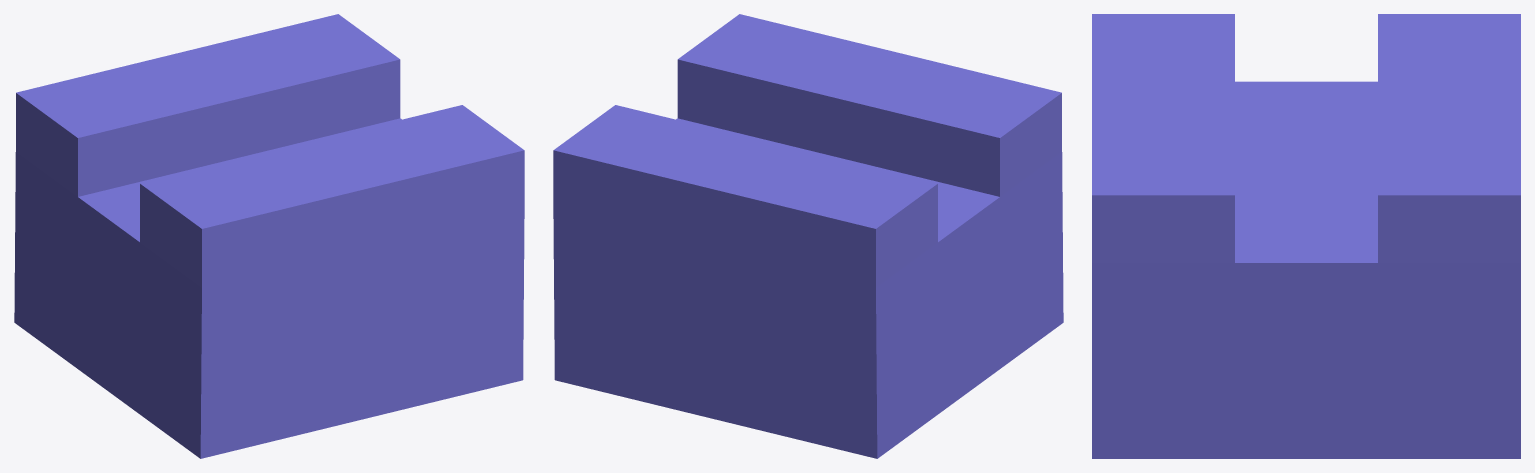
Rendered from StraightBlock.fbx.
The picture shows the model from 3 angles, left to right: view 1: azimuth 30°, elevation 25°; view 2: azimuth 150°, elevation 25°; view 3: azimuth 270°, elevation 25°; orthographic projection. The views are drawn at different scales.
Visible parts, largest first — view 1: Straight; view 2: Straight; view 3: Straight.
Part boxes in pixels (x1=…): Straight: x1=14, y1=14, x2=524, y2=458; Straight: x1=553, y1=14, x2=1063, y2=458; Straight: x1=1092, y1=14, x2=1520, y2=458.
Size of the model in its own units: 402 by 272 by 400.
